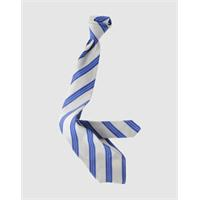tie: (57, 15, 140, 184)
